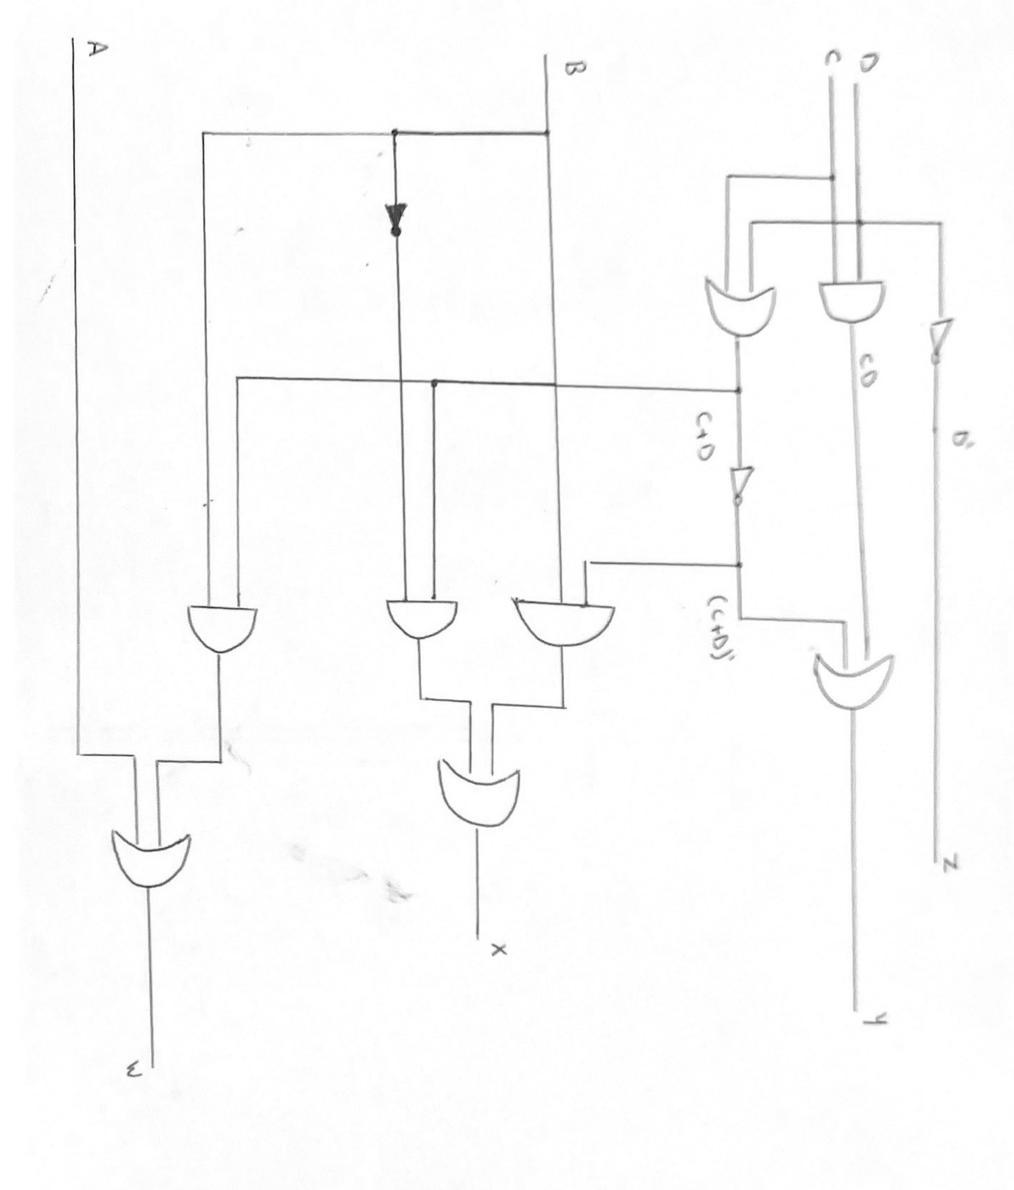AND: (506, 580, 624, 660), (370, 577, 483, 658), (177, 590, 276, 672), (813, 265, 892, 342)
NOT: (915, 310, 965, 375), (717, 460, 768, 520)
OR: (95, 813, 218, 903), (795, 638, 909, 730), (433, 745, 546, 838), (697, 263, 791, 350)
